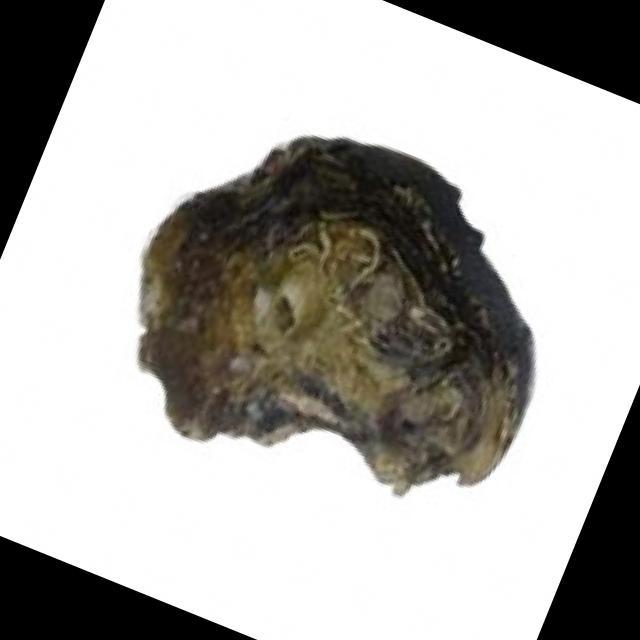Oyster-Closed: (100, 98, 582, 524)
